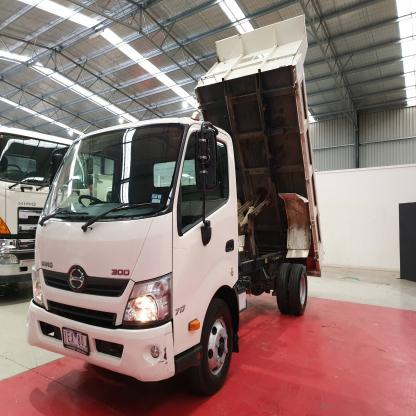dump_truck: (26, 15, 335, 396)
